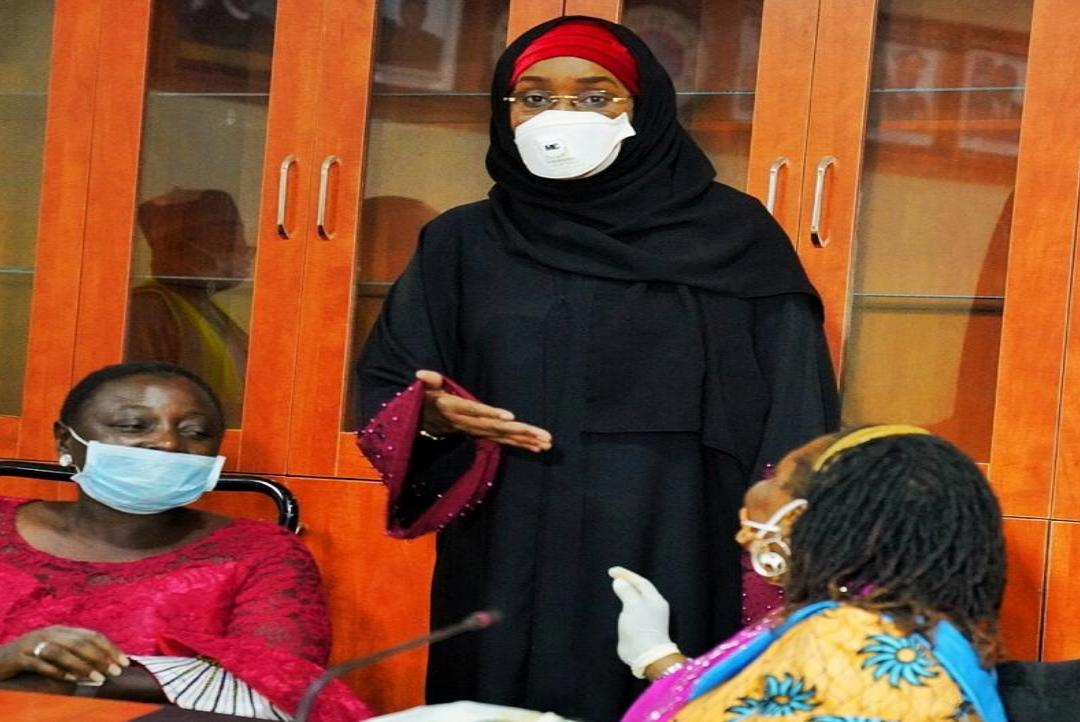mask_weared_incorrect: (53, 364, 227, 517)
